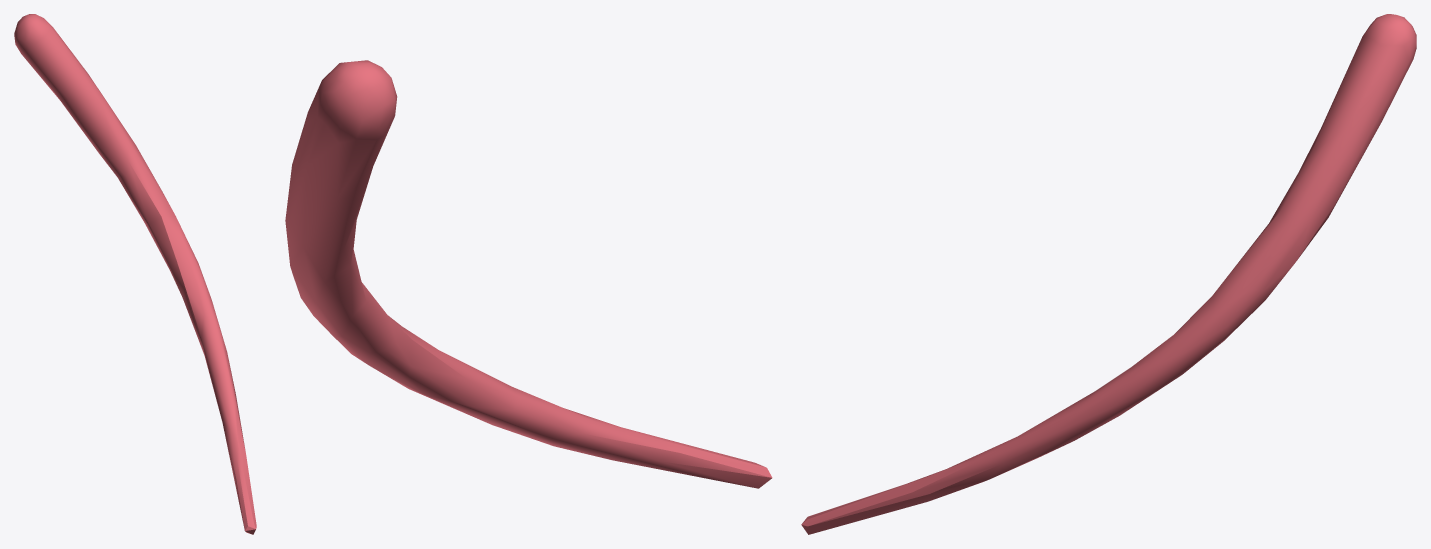
File: fma8669_fj6003.glb
3 views of the same model, side by side, from view 1: azimuth 30°, elevation 25°; view 2: azimuth 150°, elevation 25°; view 3: azimuth 270°, elevation 25° (orthographic). The views are drawn at different scales.
Visible parts, largest first — view 1: FMA8669_FJ6003; view 2: FMA8669_FJ6003; view 3: FMA8669_FJ6003.
Part boxes in pixels (x1,y1,x2,y2): FMA8669_FJ6003: [14, 14, 256, 534]; FMA8669_FJ6003: [285, 60, 772, 488]; FMA8669_FJ6003: [801, 14, 1416, 534].
Size of the model in its own units: 0.0139 by 0.0478 by 0.0522.
